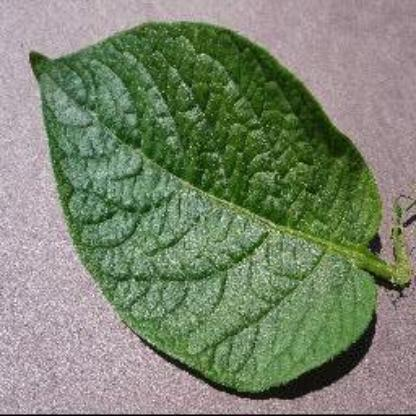Healthy-plant: (21, 21, 399, 402)
